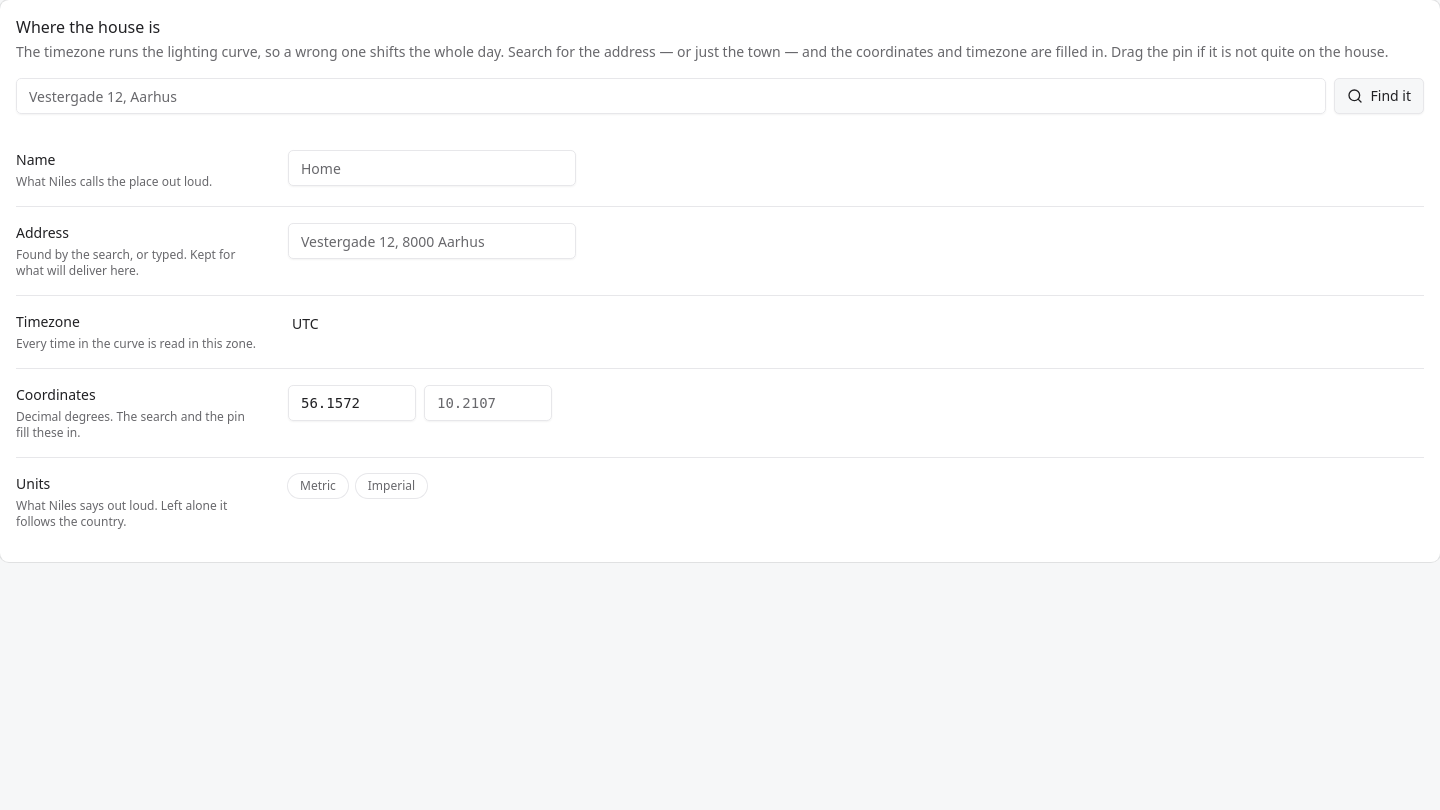
Test: HomeCard › refuses to write a latitude that is not a number
Type "north a bit" into the field named "Latitude". click: (352, 403)
box: x1=288 y1=385 x2=416 y2=421
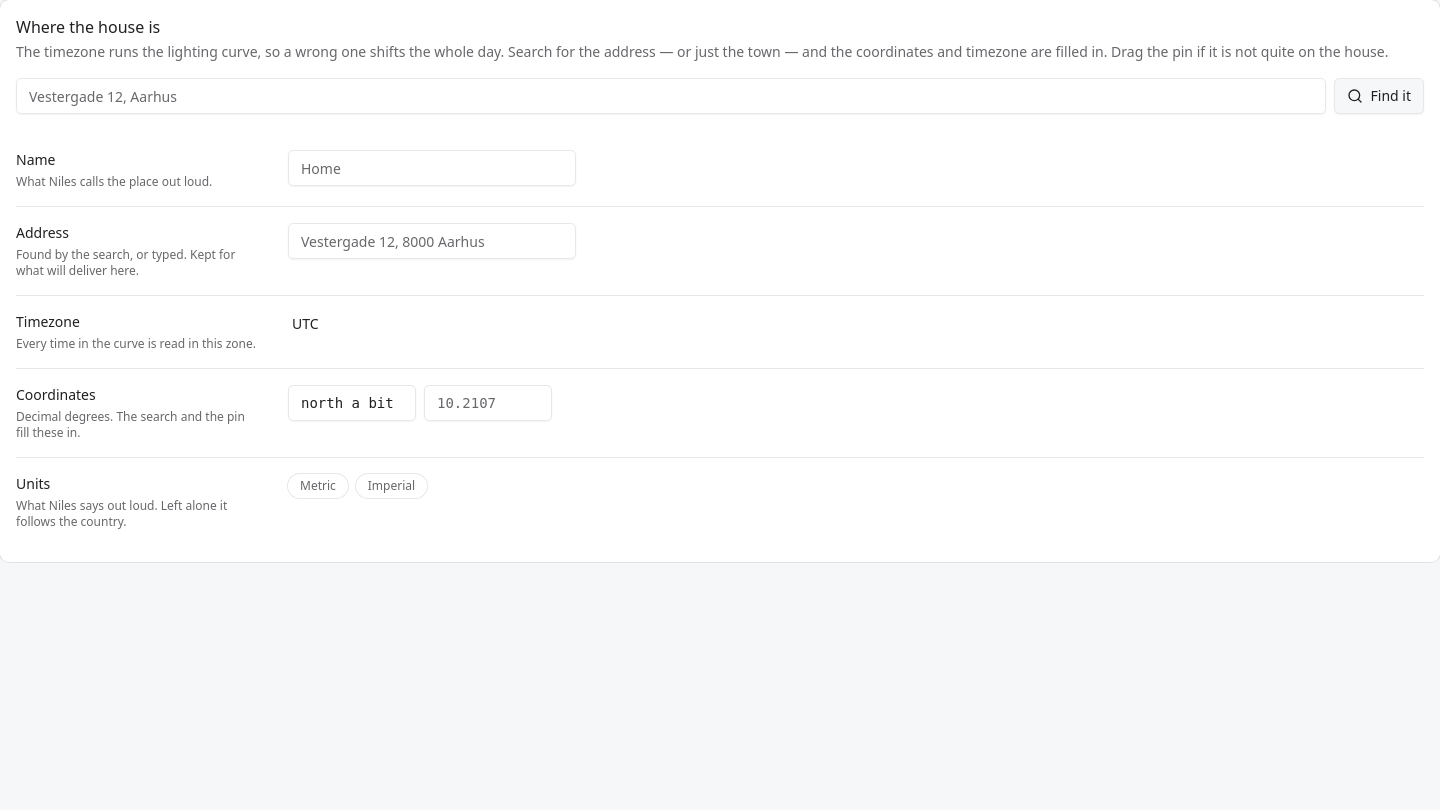
Leave the field named "Latitude", box x1=288 y1=385 x2=416 y2=421
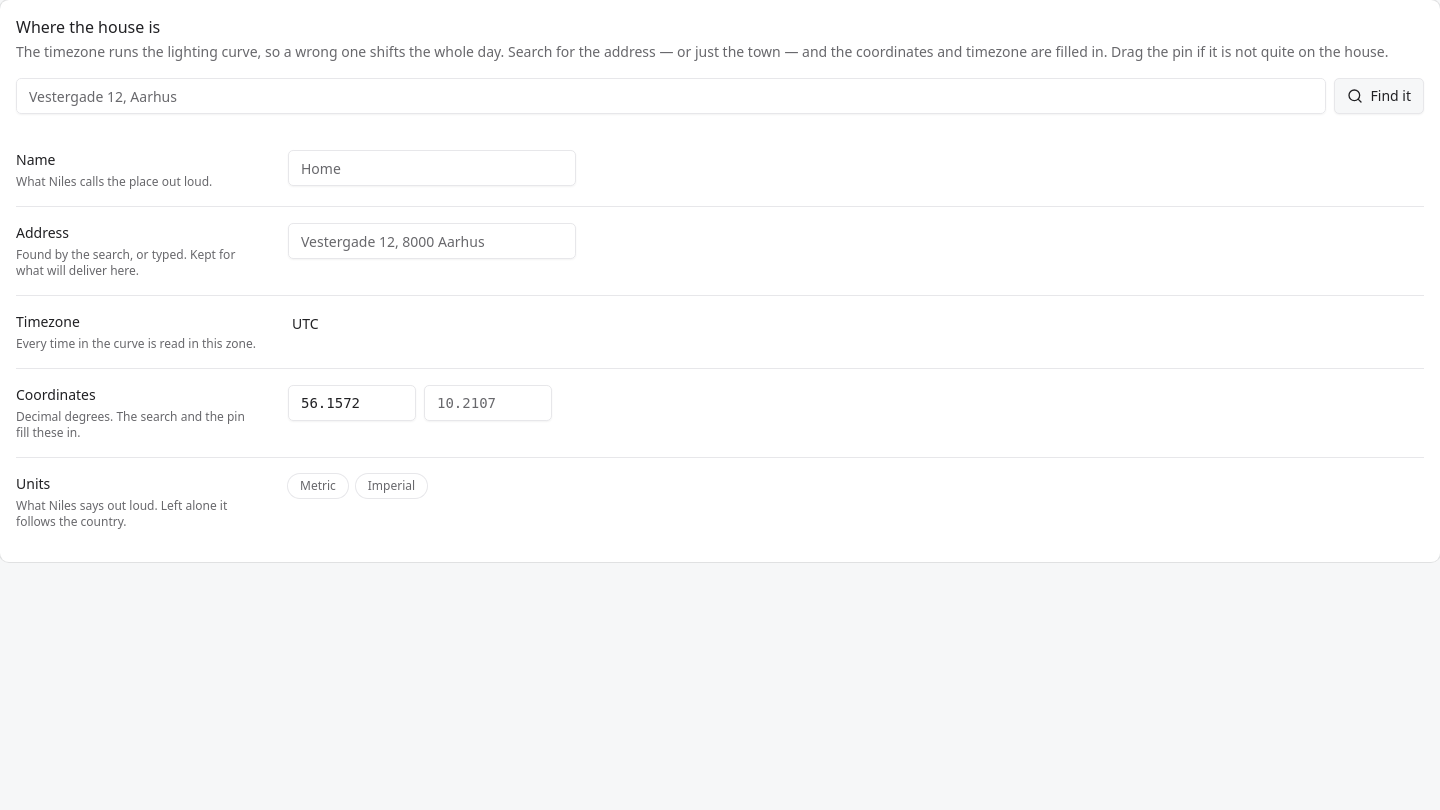
Check: the field named "Latitude" holds "56.1572", box x1=288 y1=385 x2=416 y2=421
